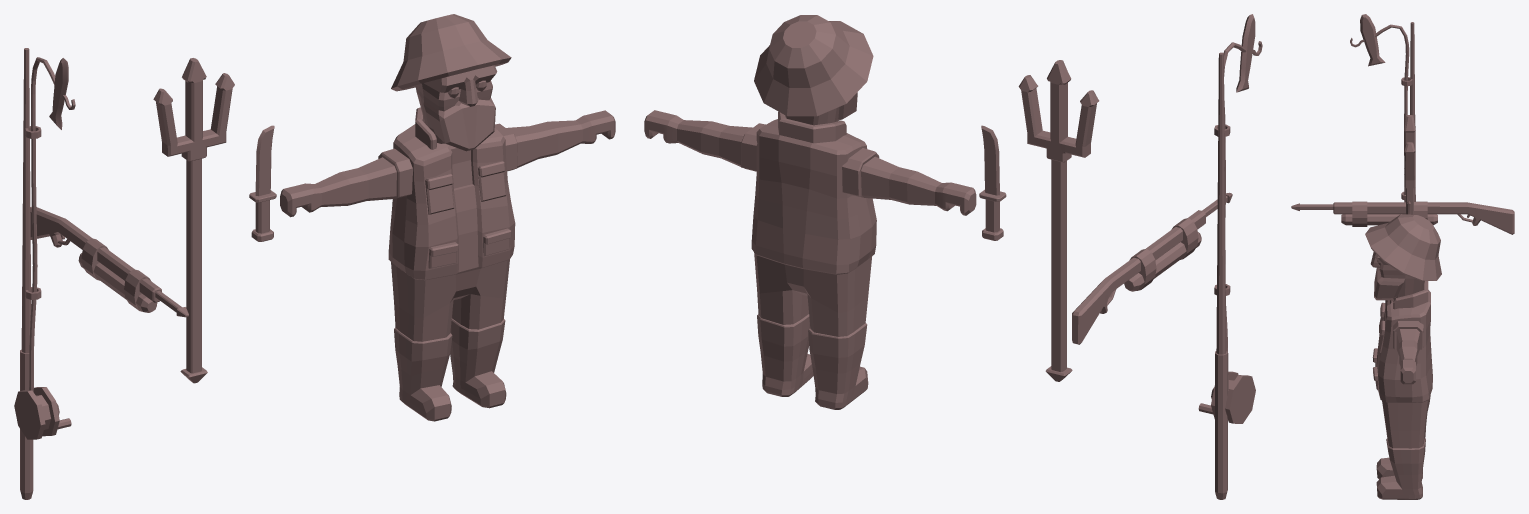
File: Fisherman_and_wepons.fbx
3 views of the same model, side by side, from view 1: azimuth 30°, elevation 25°; view 2: azimuth 150°, elevation 25°; view 3: azimuth 270°, elevation 25° (orthographic). The views are drawn at different scales.
Parts seen in each view (by area): view 1: Fisherman, FishingRod, Trident, Harpoon, Knife; view 2: Fisherman, Trident, FishingRod, Harpoon, Knife; view 3: Fisherman, Harpoon, FishingRod, Trident.
Part boxes in pixels (x1=…): Fisherman: x1=280, y1=14, x2=615, y2=421; FishingRod: x1=14, y1=48, x2=75, y2=499; Trident: x1=153, y1=58, x2=234, y2=383; Harpoon: x1=30, y1=206, x2=188, y2=317; Knife: x1=249, y1=125, x2=276, y2=241; Fisherman: x1=644, y1=15, x2=976, y2=409; Trident: x1=1018, y1=60, x2=1099, y2=381; FishingRod: x1=1198, y1=14, x2=1262, y2=499; Harpoon: x1=1072, y1=192, x2=1232, y2=344; Knife: x1=979, y1=125, x2=1006, y2=240; Fisherman: x1=1365, y1=214, x2=1441, y2=499; Harpoon: x1=1291, y1=201, x2=1514, y2=234; FishingRod: x1=1350, y1=14, x2=1415, y2=202; Trident: x1=1404, y1=115, x2=1415, y2=214.
Bounding box in the file's own units: 5.66 × 4.23 × 2.6.
